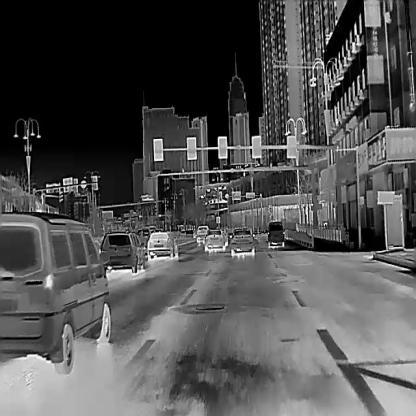car: (0, 208, 110, 375), (100, 229, 146, 273), (147, 229, 178, 259), (229, 229, 255, 255), (203, 228, 225, 251), (266, 220, 285, 246), (195, 225, 209, 241)
